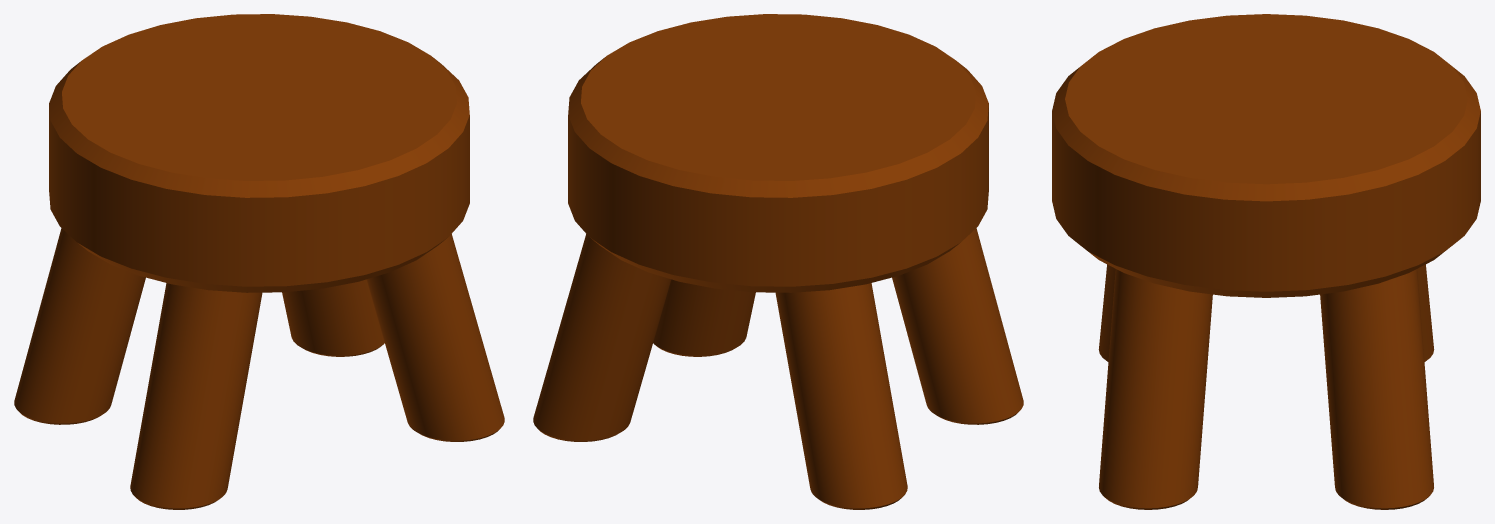
File: shoplittletable.fbx
3 views of the same model, side by side, from view 1: azimuth 30°, elevation 25°; view 2: azimuth 150°, elevation 25°; view 3: azimuth 270°, elevation 25° (orthographic).
Parts seen in each view (by area): view 1: shoplittletable; view 2: shoplittletable; view 3: shoplittletable.
Part boxes in pixels (x1,y1,x2,y2): shoplittletable: (14,14,504,509); shoplittletable: (533,14,1023,509); shoplittletable: (1052,14,1480,509).
Bounding box in the file's own units: 162 × 134 × 162.
